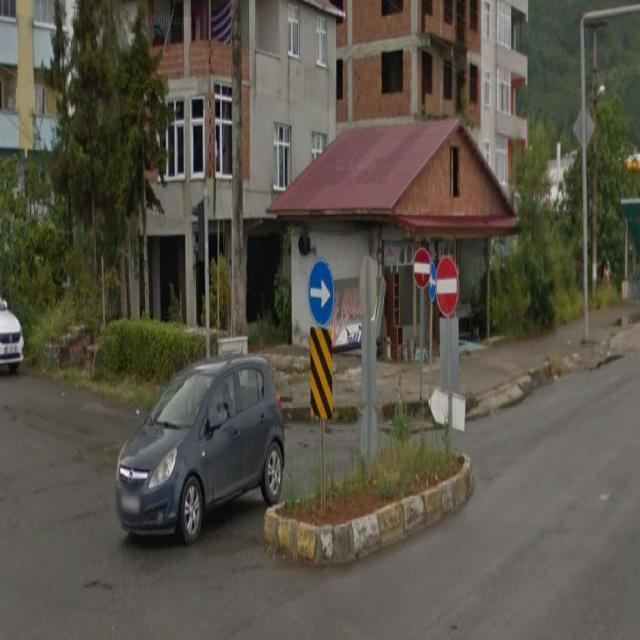girisyok: (436, 258, 460, 316), (412, 248, 430, 289)
sag: (308, 259, 335, 327)
sol: (428, 261, 436, 298)
